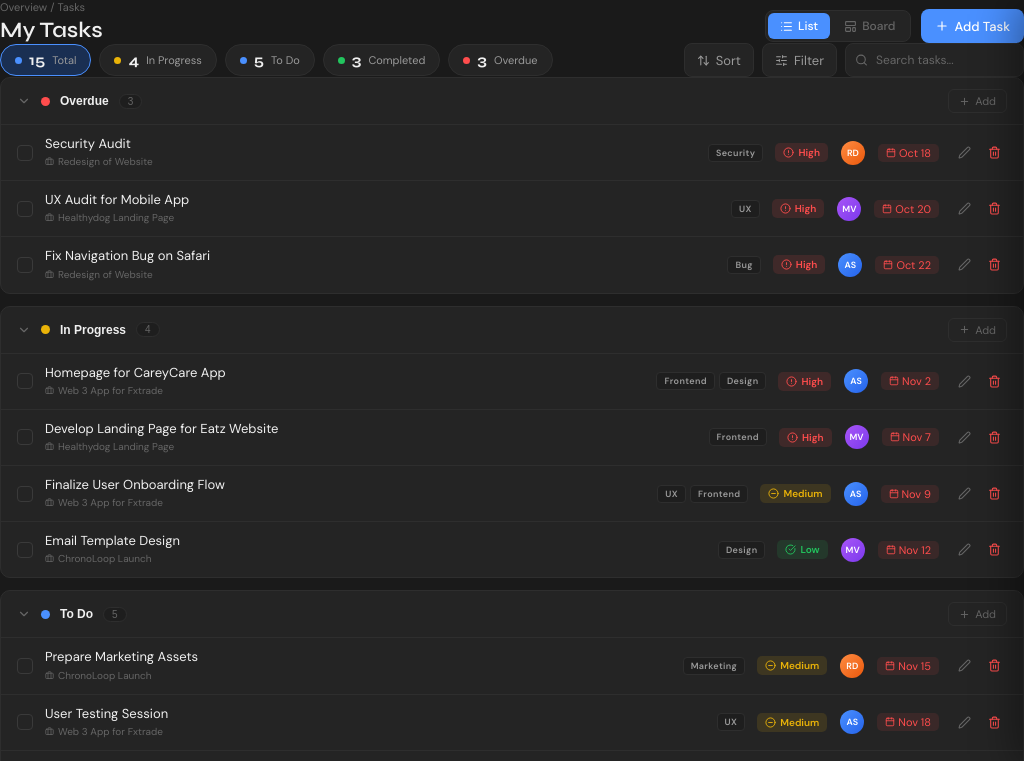
TasksPage › clicking a task row opens the detail panel showing that task
Click the text "Homepage for CareyCare App" at (135, 372), box left=45, top=364, right=226, bottom=381
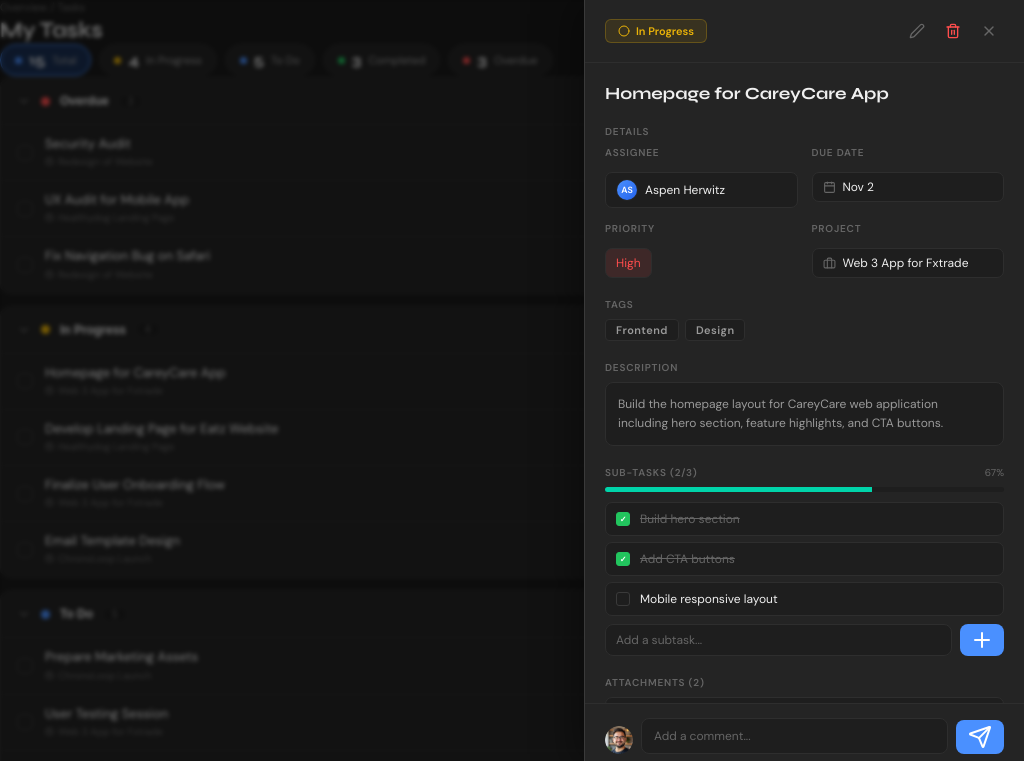
Expected: the text box with placeholder "Add a comment..." is shown, left=641, top=718, right=948, bottom=754
